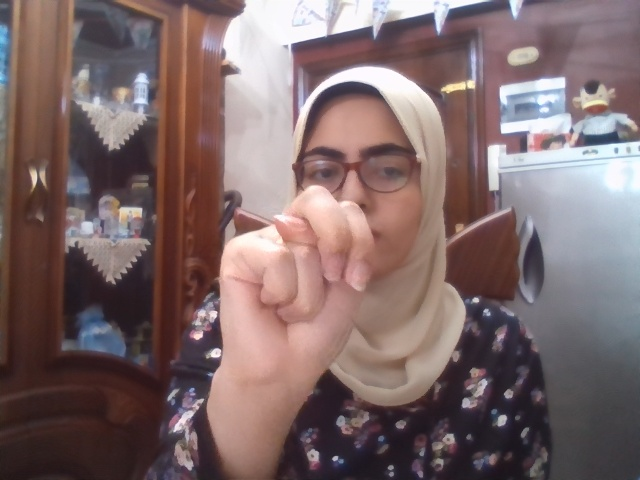N: (219, 185, 376, 388)
